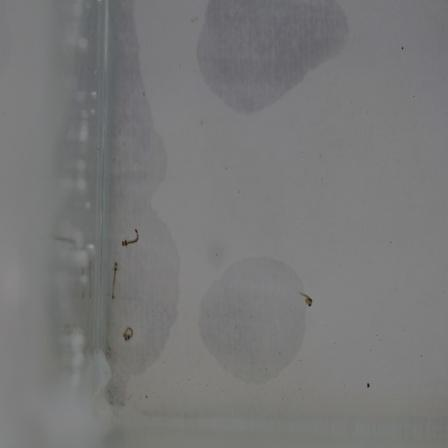Jentik-Nyamuk: (107, 260, 121, 302), (118, 226, 143, 249), (296, 287, 316, 312), (118, 322, 137, 347)
